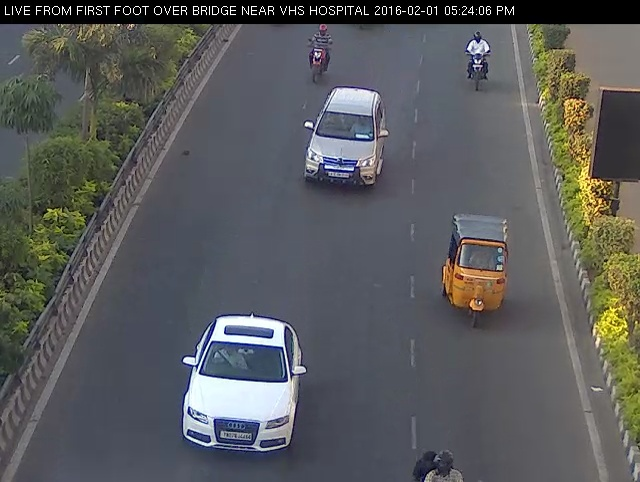Car: (156, 306, 326, 467), (423, 195, 527, 336), (290, 80, 393, 207)
Person: (455, 28, 501, 98), (406, 438, 476, 482), (299, 22, 341, 88)
